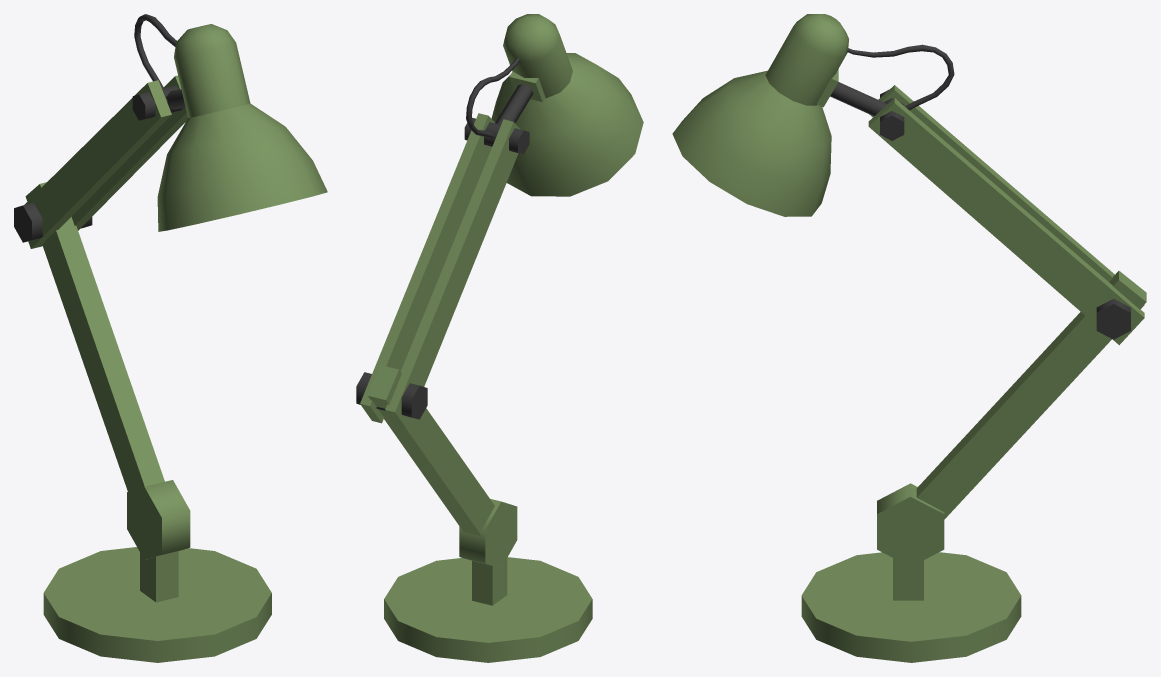
Rendered from DeskLamp_01.fbx.
3 renders of one model, left to right at view 1: azimuth 30°, elevation 25°; view 2: azimuth 150°, elevation 25°; view 3: azimuth 270°, elevation 25°, orthographic. The views are drawn at different scales.
Parts seen in each view (by area): view 1: DeskLamp_01; view 2: DeskLamp_01; view 3: DeskLamp_01.
Boxes of the visible parts, bbox=[...] form: DeskLamp_01: bbox=[14, 14, 327, 662]; DeskLamp_01: bbox=[356, 14, 643, 662]; DeskLamp_01: bbox=[672, 14, 1146, 662].
Size of the model in its own units: 0.2029 by 0.6119 by 0.4379.
